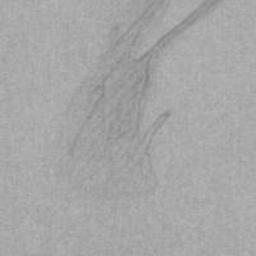Water spot: (45, 0, 224, 198)
